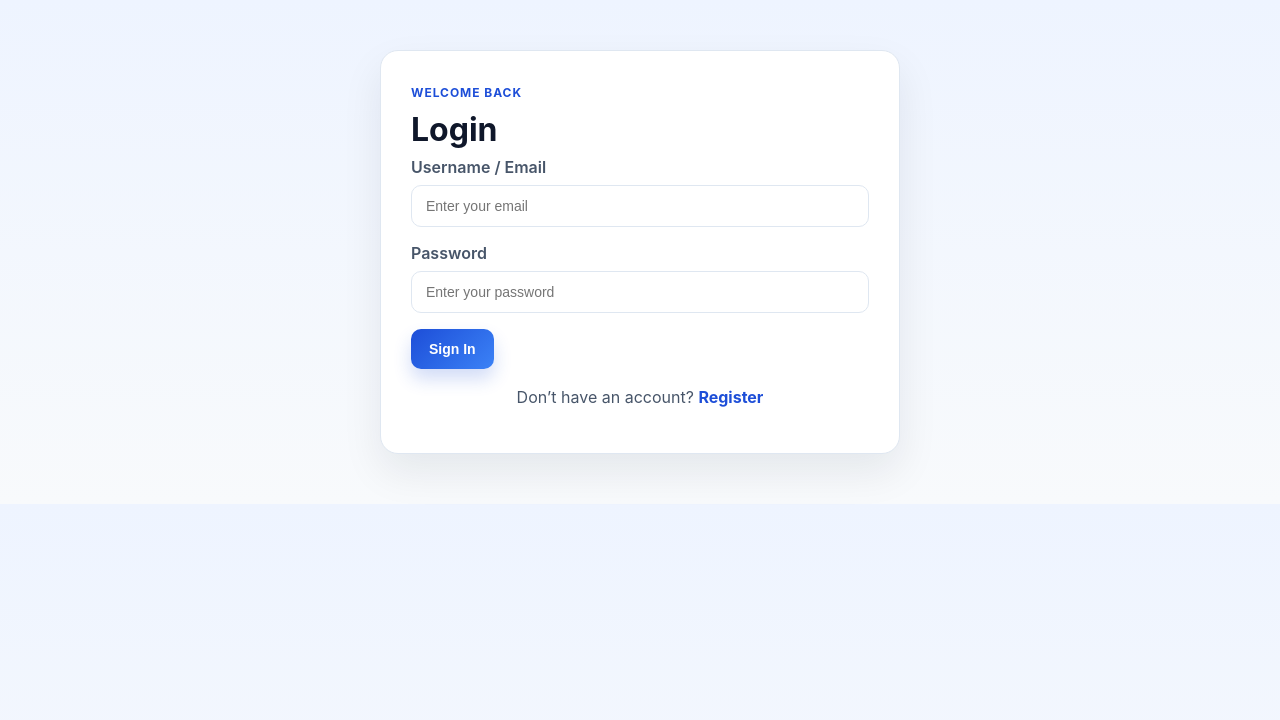
Test case: login form › logs in successfully and navigates to the product catalog
Type "customer@example.test" into the field labelled "Username / Email" at [640, 206], box [411, 185, 869, 227]
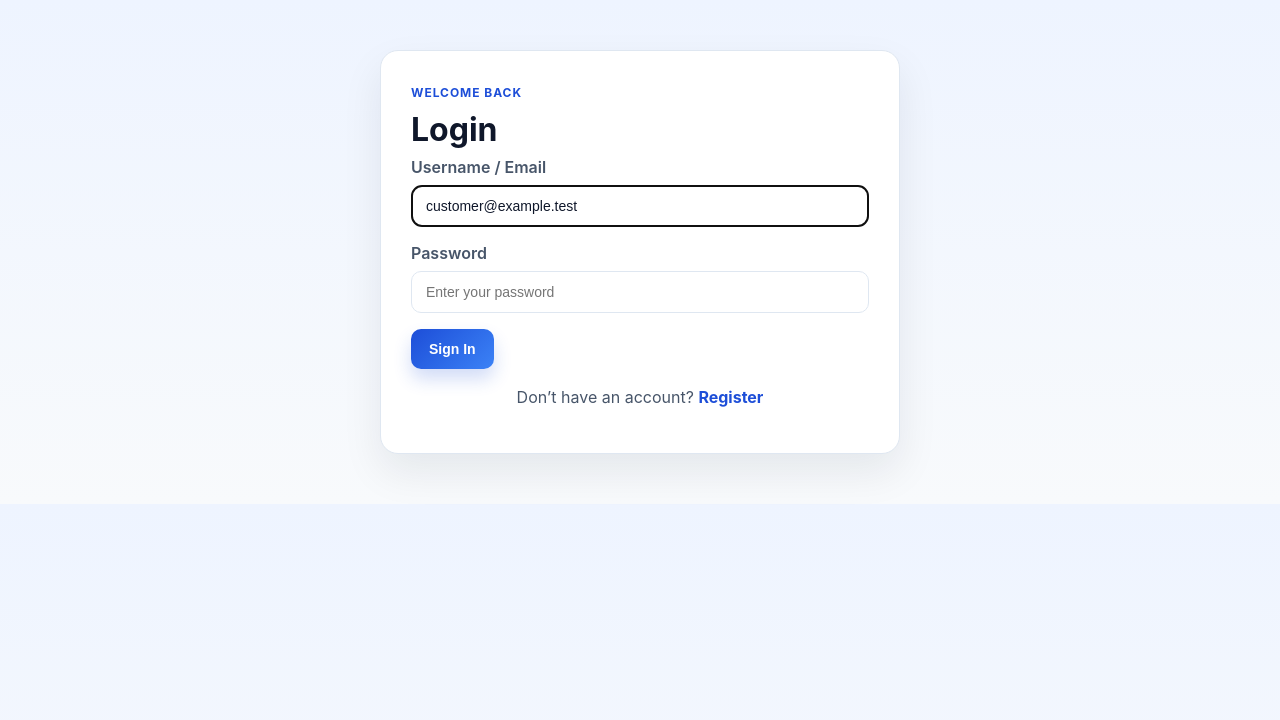
Type "correct-password" into the password field labelled "Password" at [640, 292], box [411, 271, 869, 313]
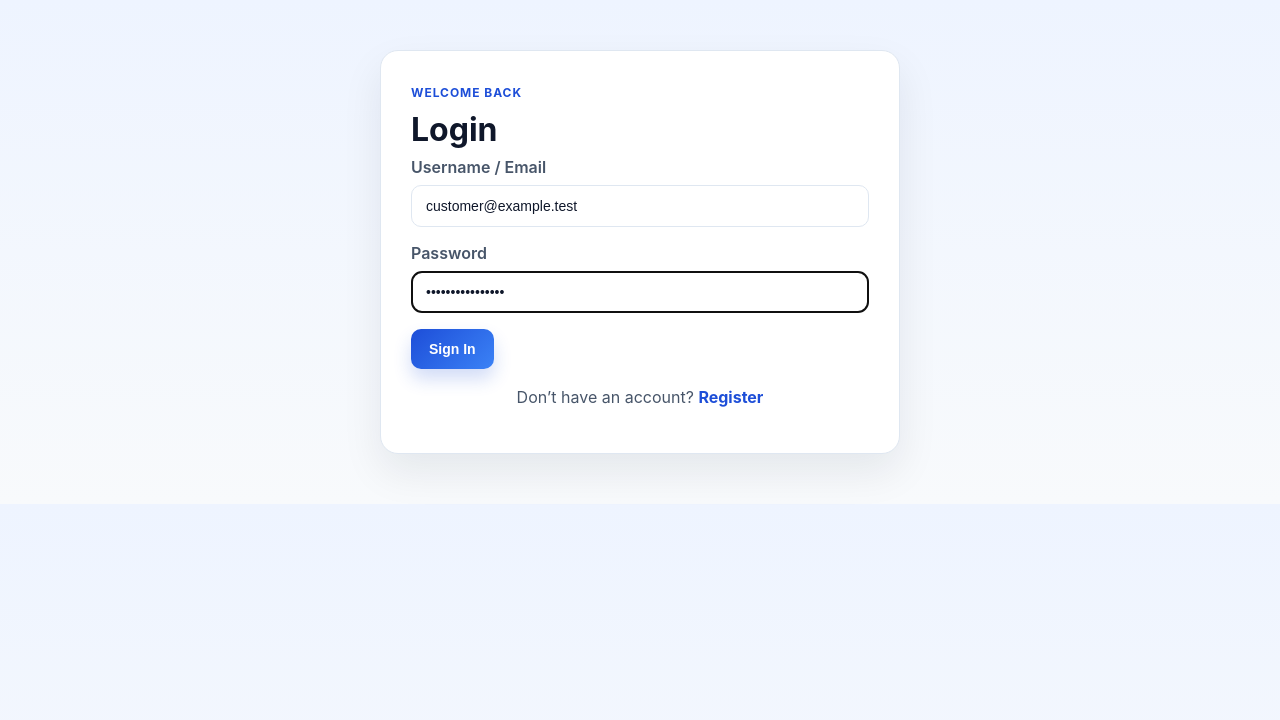
Click the button "Sign In" at [452, 349], box [411, 329, 494, 369]
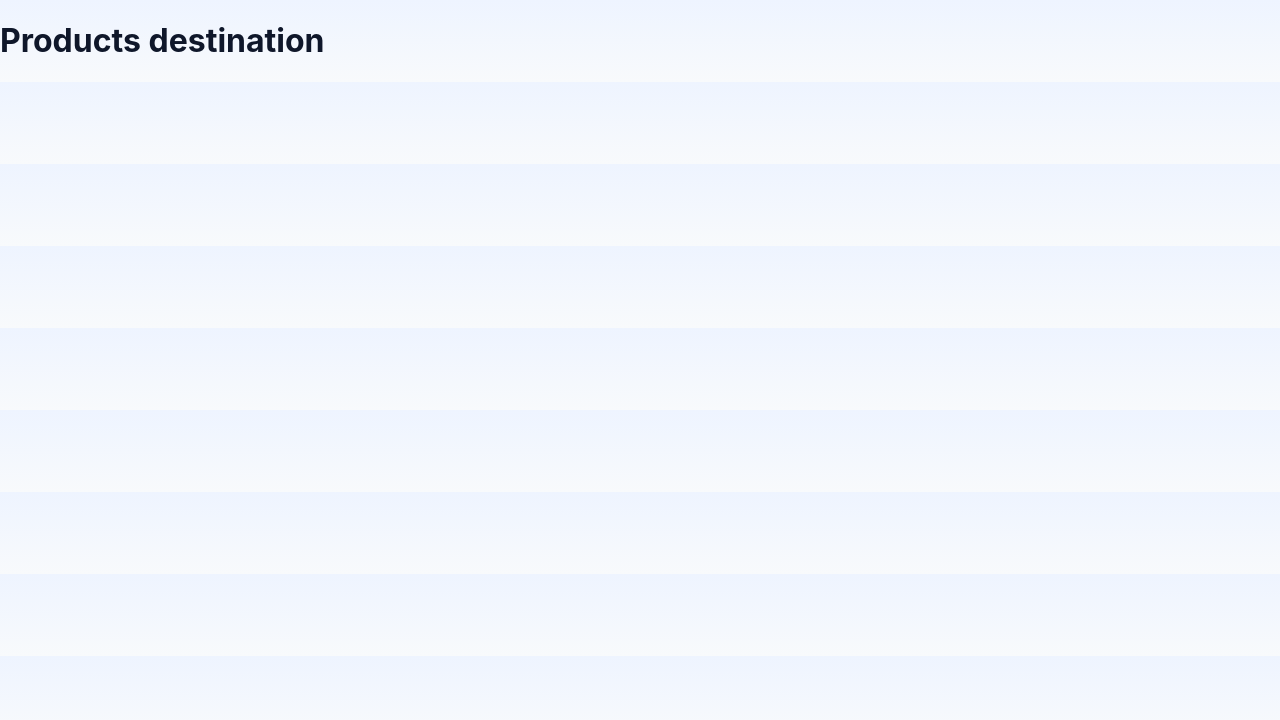
Expected: the heading "Products destination" is shown, [0, 21, 324, 60]
